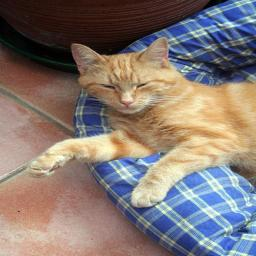catnose: (117, 98, 138, 107)
